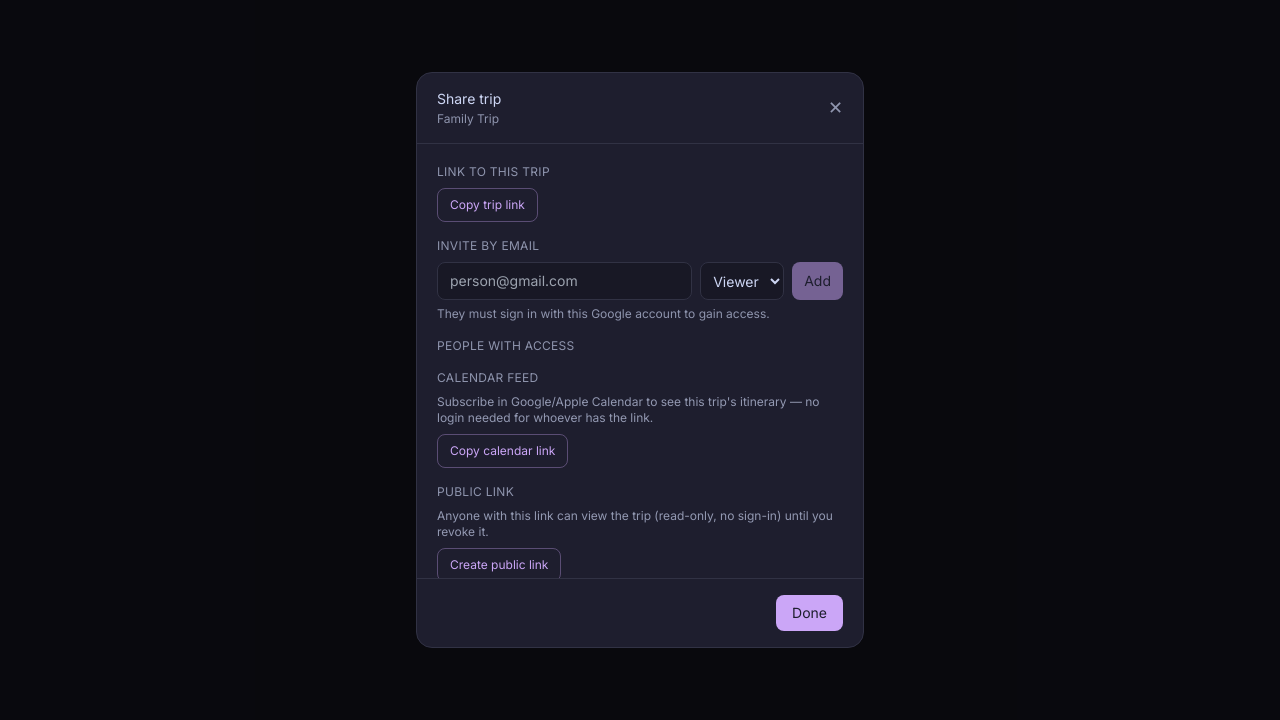
ShareModal — public link › creates a link and copies it to the clipboard
Click the button "Create public link": coordinates (499, 565) [437,548,561,582]
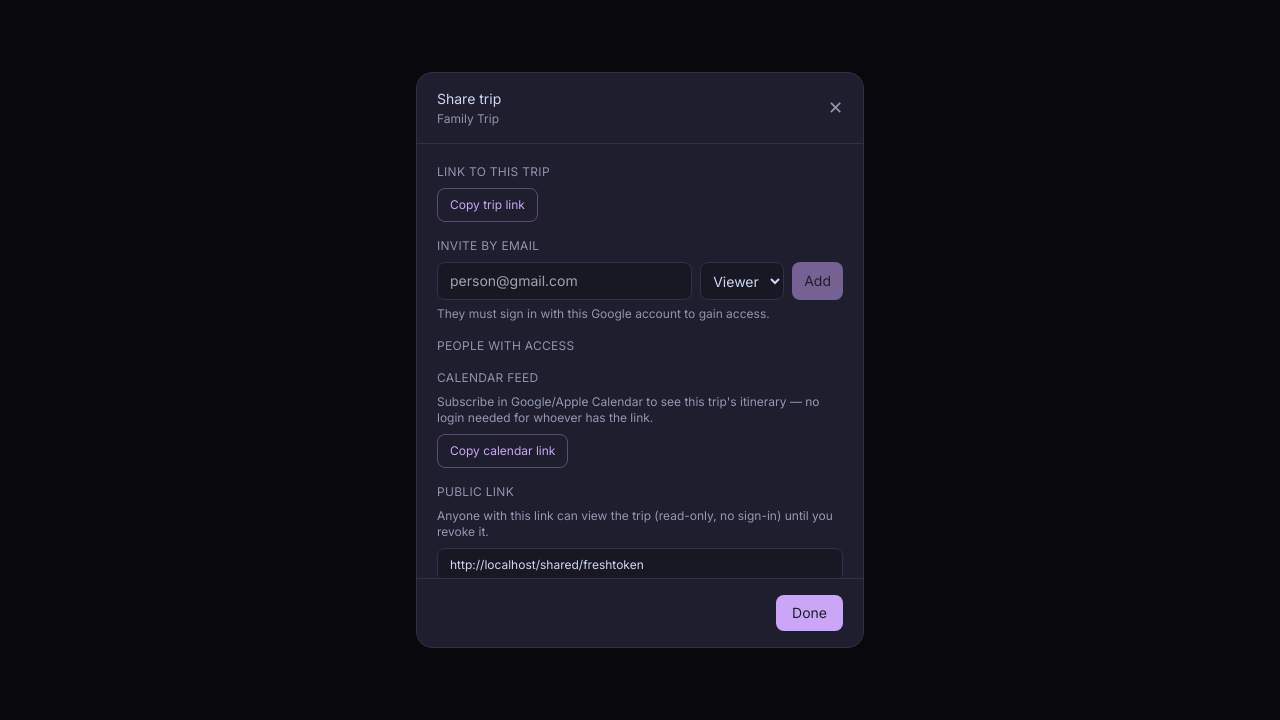
Expected: the text "http://localhost/shared/freshtoken" is shown, [437,548,843,578]
